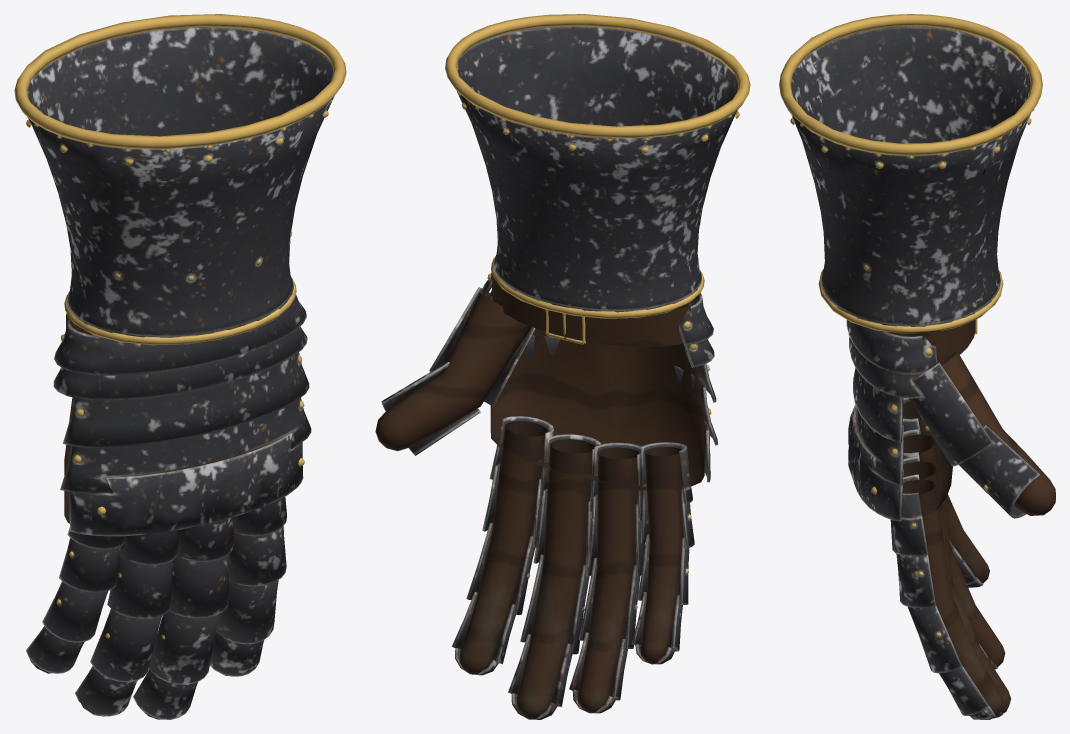
Rendered from SM_EagleGauntlets_L_LOD1.fbx.
3 views of the same model, side by side, from view 1: azimuth 30°, elevation 25°; view 2: azimuth 150°, elevation 25°; view 3: azimuth 270°, elevation 25° (orthographic). The views are drawn at different scales.
Parts seen in each view (by area): view 1: SM_EagleGauntlets_L_LOD1; view 2: SM_EagleGauntlets_L_LOD1; view 3: SM_EagleGauntlets_L_LOD1.
Boxes of the visible parts, x1,y1,x2,y2 form: SM_EagleGauntlets_L_LOD1: (14, 14, 346, 719); SM_EagleGauntlets_L_LOD1: (375, 14, 750, 719); SM_EagleGauntlets_L_LOD1: (779, 14, 1055, 719).
Size of the model in its own units: 0.1484 by 0.2966 by 0.119.
